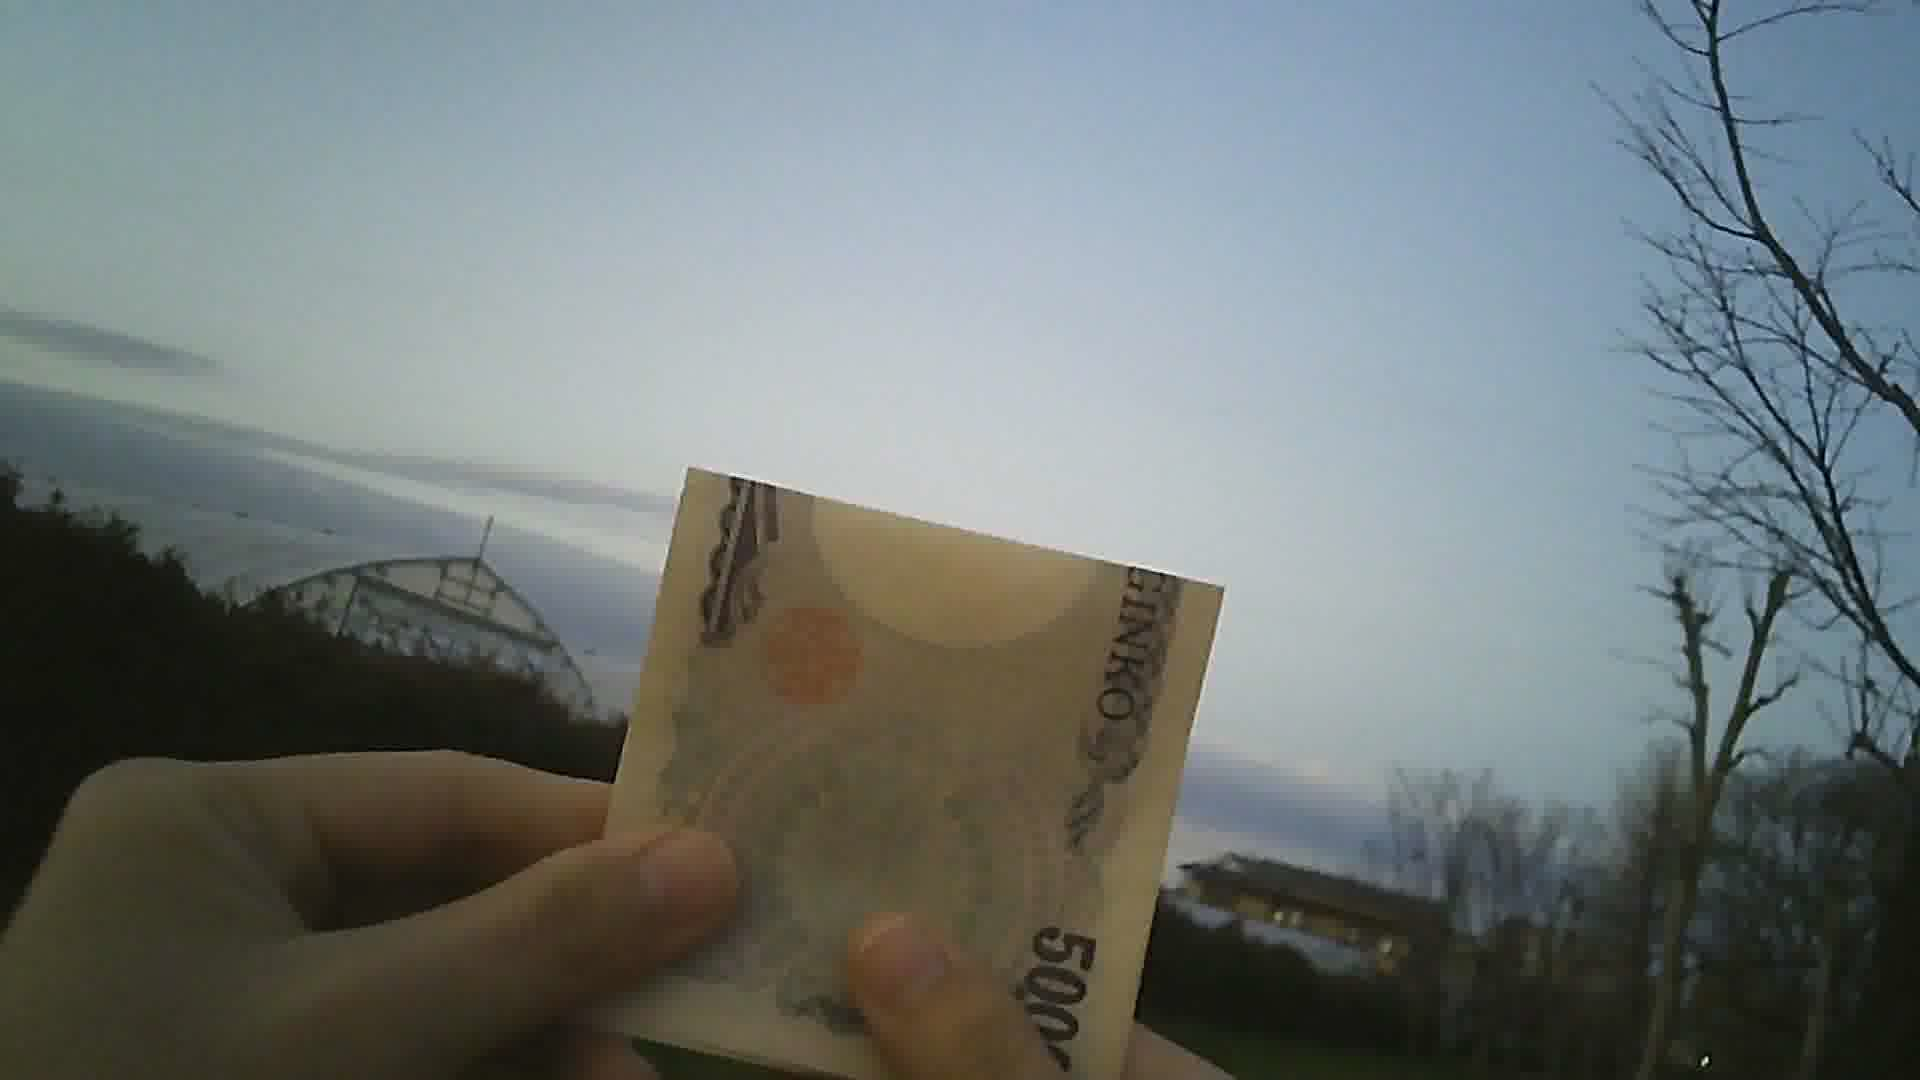5,000 Yen: (591, 455, 1237, 1079)
